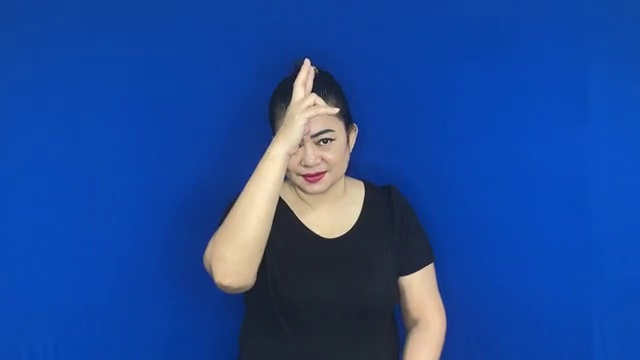chicken: (271, 51, 348, 163)
